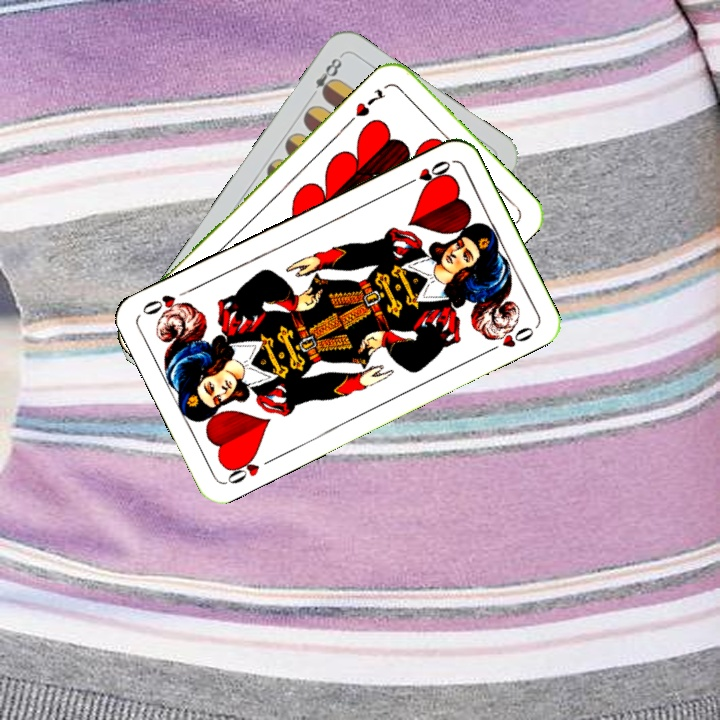E8: (305, 51, 345, 102)
H7: (351, 84, 388, 120)
HO: (221, 449, 278, 487), (399, 156, 454, 190)
